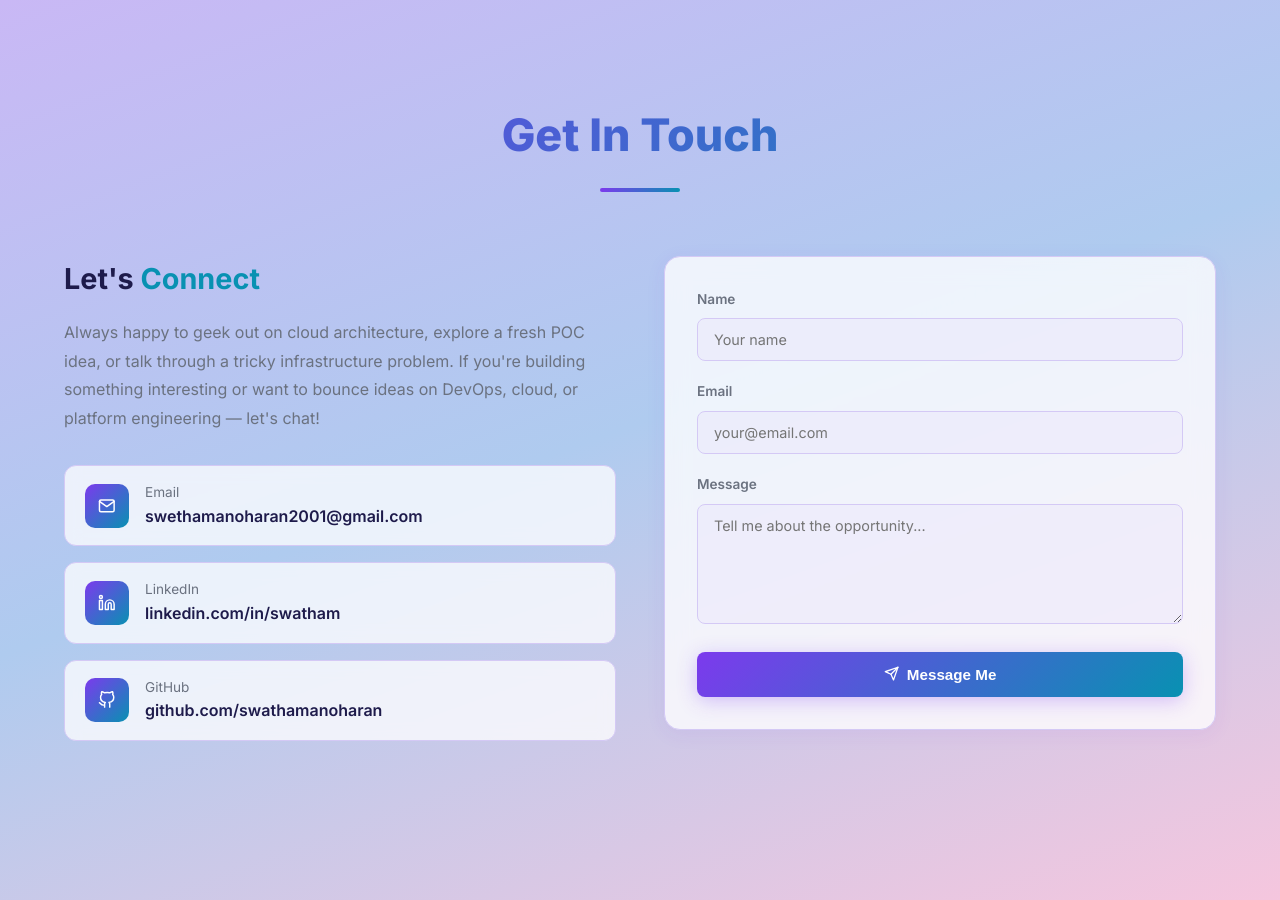
Contact form › submits successfully and shows success message
In the field labelled "Name": (940, 340) [697,318,1183,361], type "Swatha"
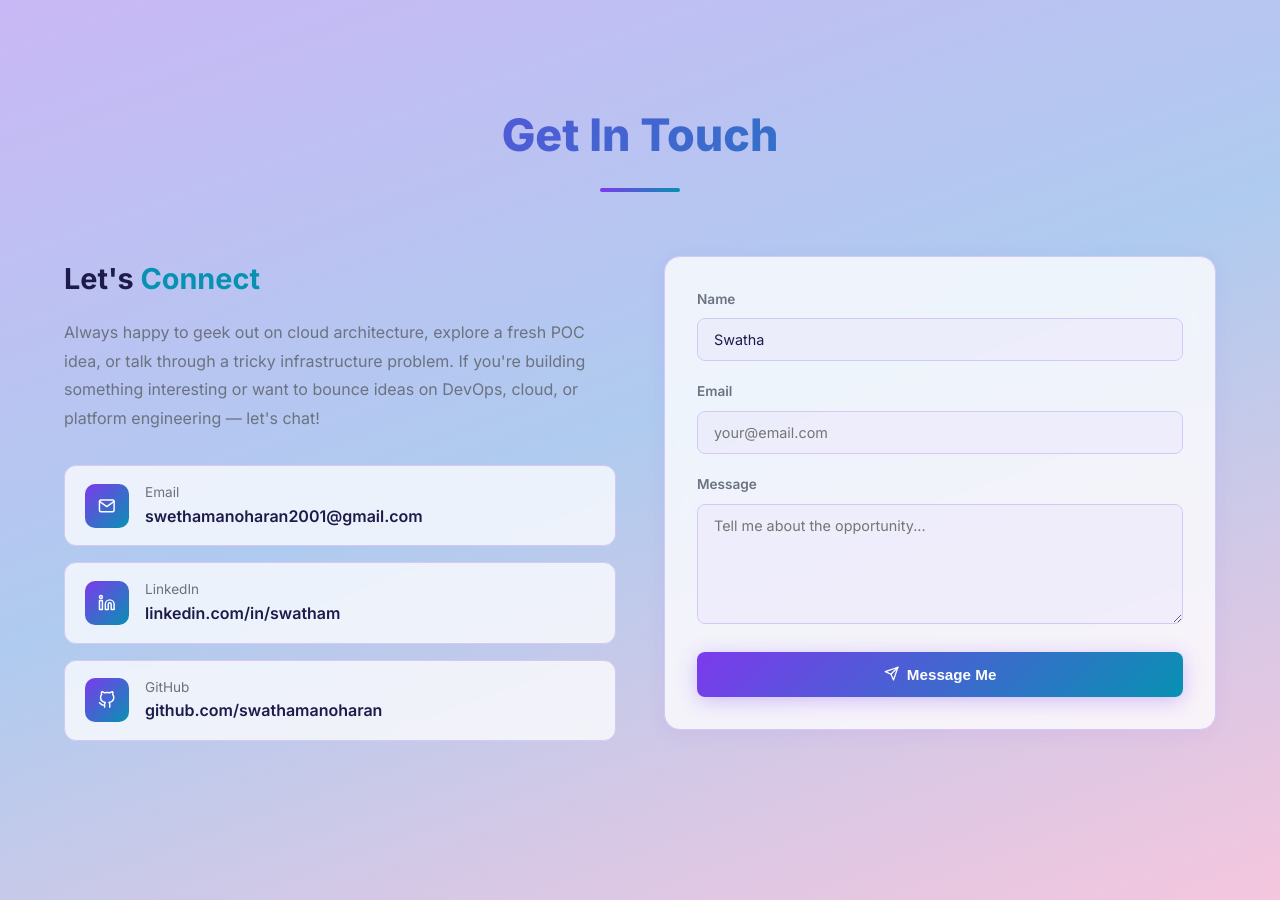
In the field labelled "Email": (940, 433) [697,411,1183,454], type "swatha@example.com"
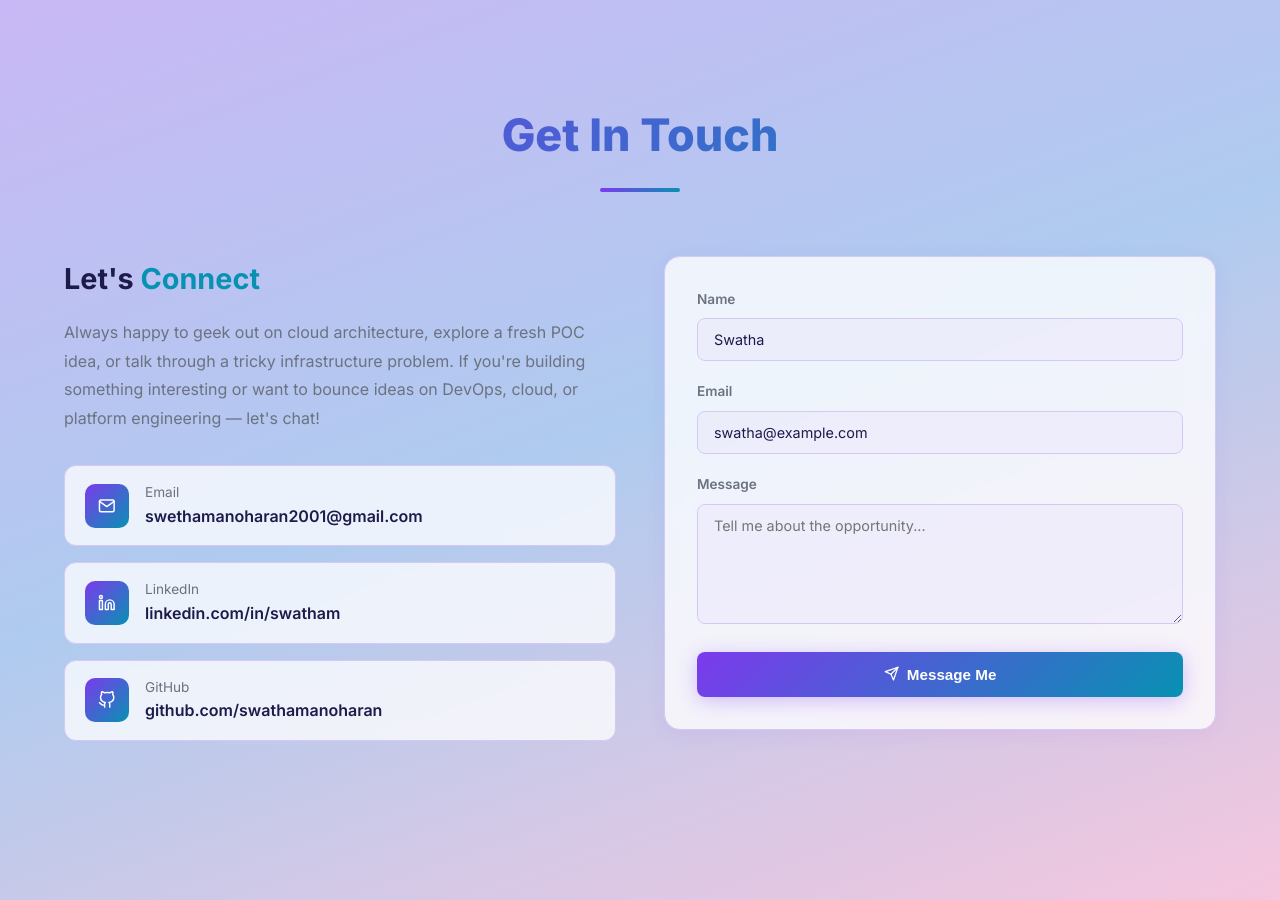
In the text box labelled "Message": (940, 564) [697,504,1183,624], type "Hello there"
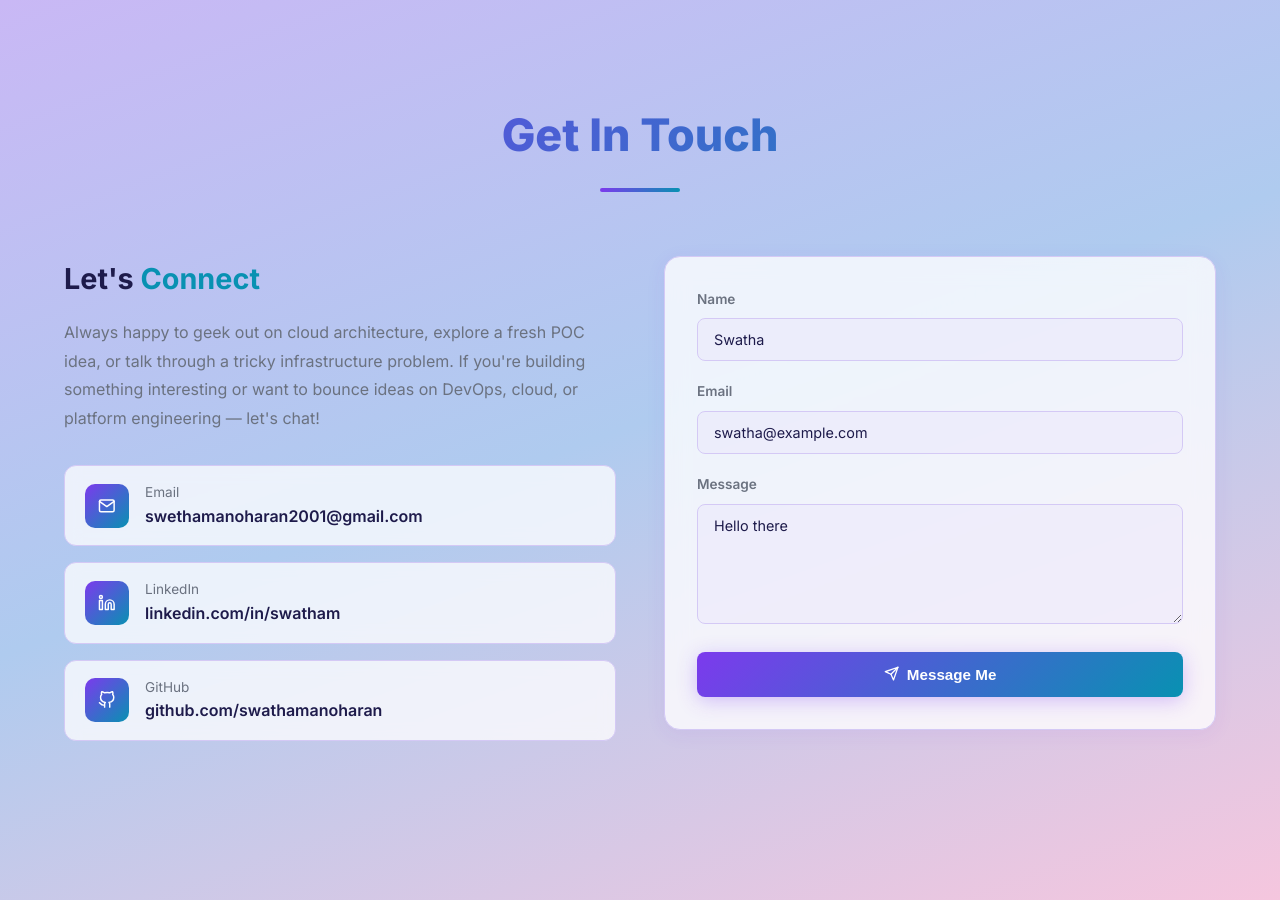
Click the button "Message Me": (940, 674) [697,652,1183,696]
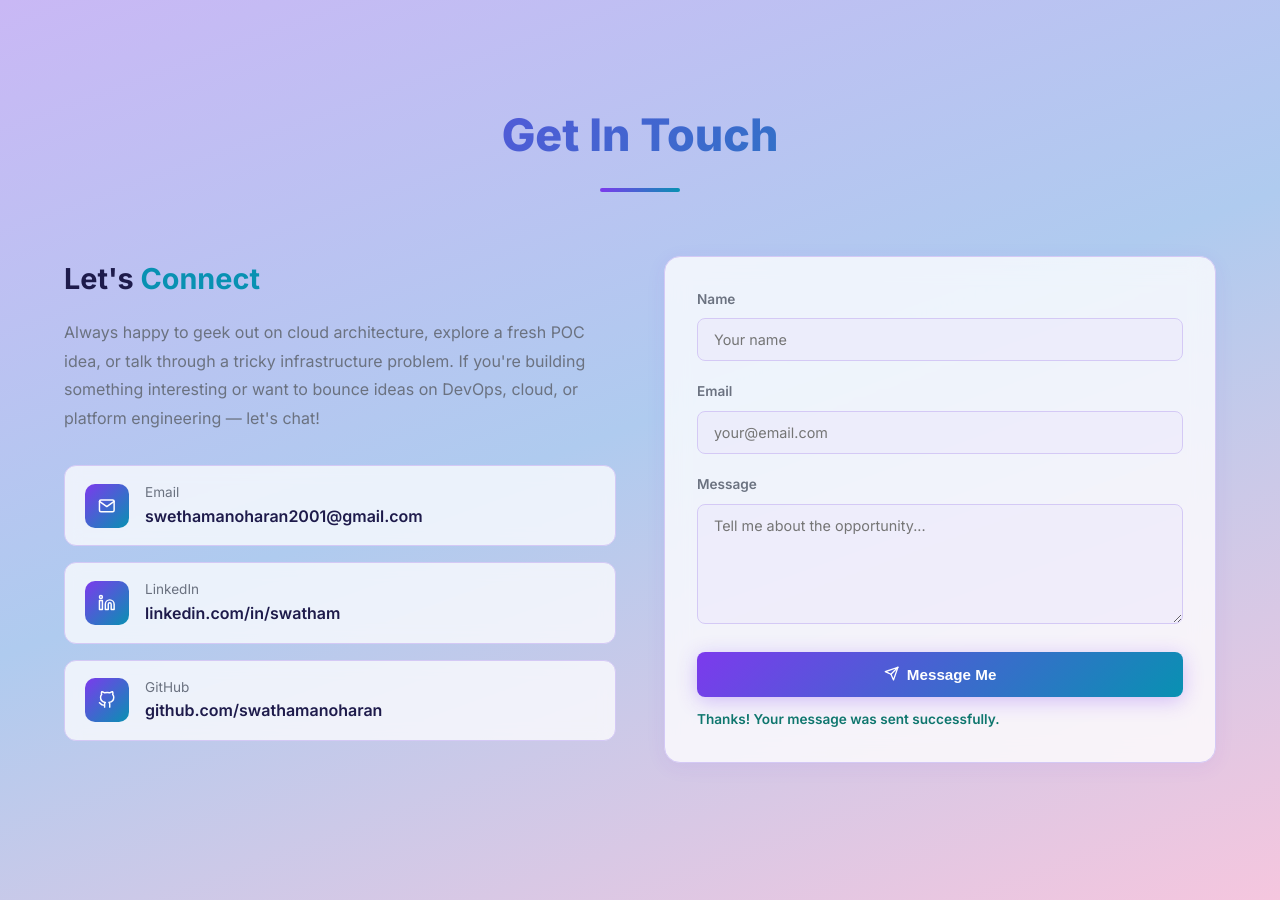
expect the text "Thanks! Your message was sent successfully." is shown: met, box [697,710,1000,726]
